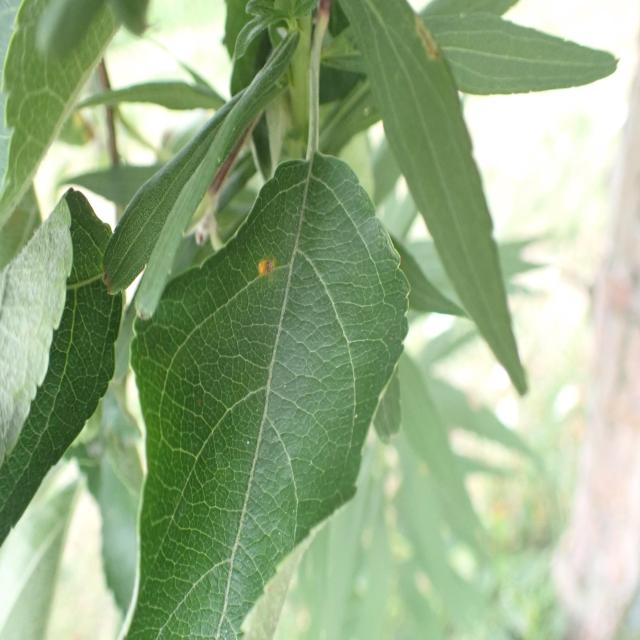Rust: (254, 236, 280, 311)
